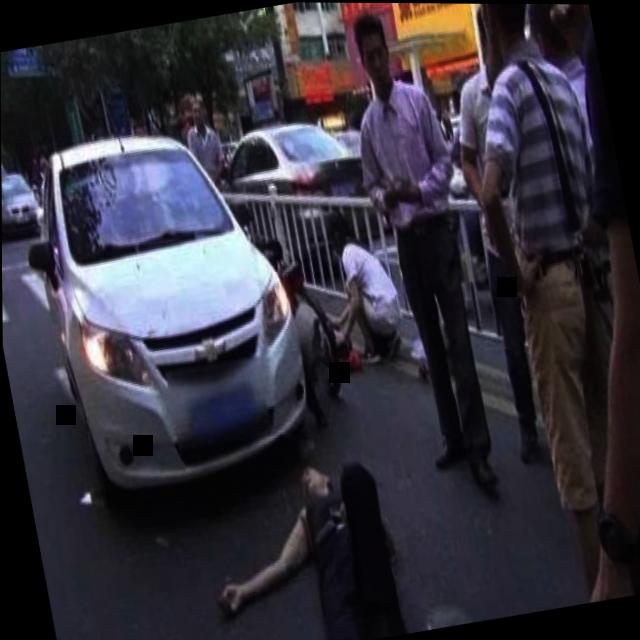Fall-Detected: (185, 423, 426, 640)
